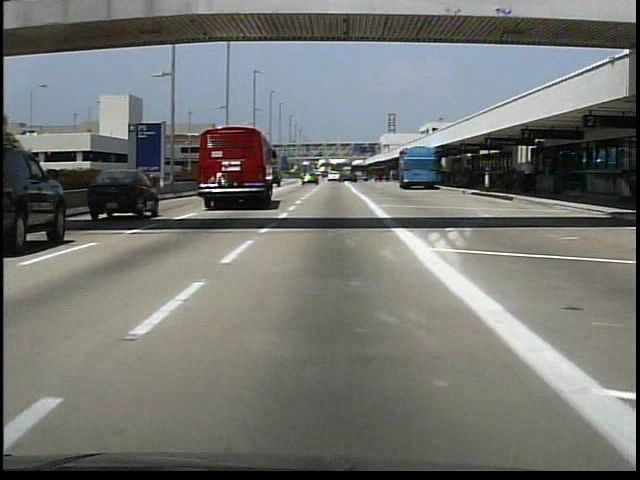person: (523, 158, 537, 193)
